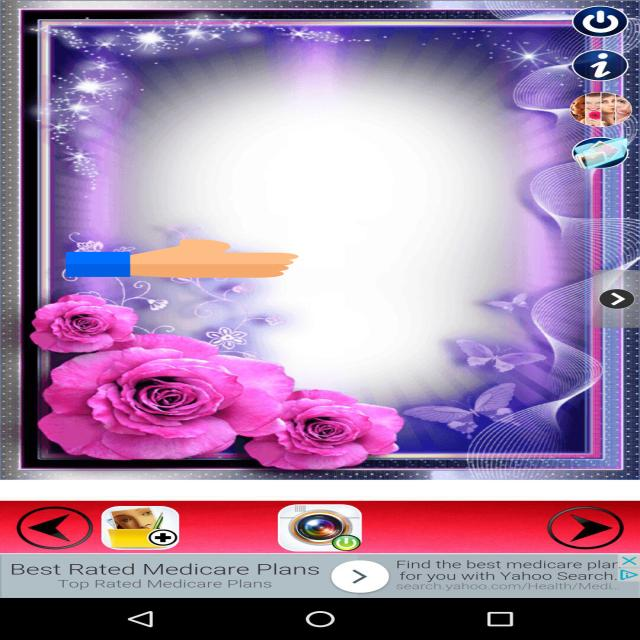privacy zuckering: (65, 238, 298, 279)
